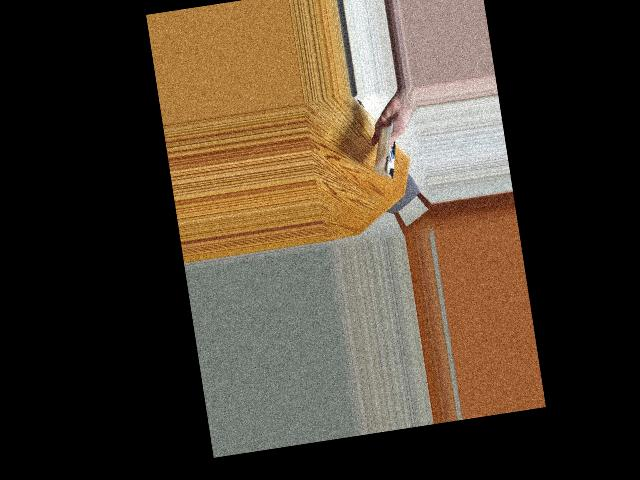cheese: (362, 122, 413, 179)
